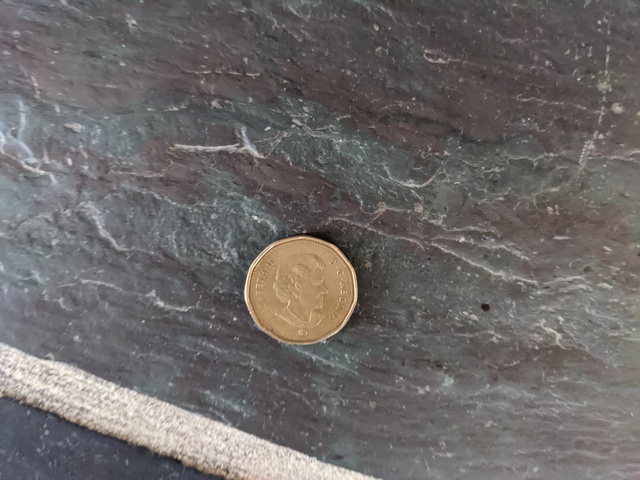loonie: (240, 231, 366, 351)
